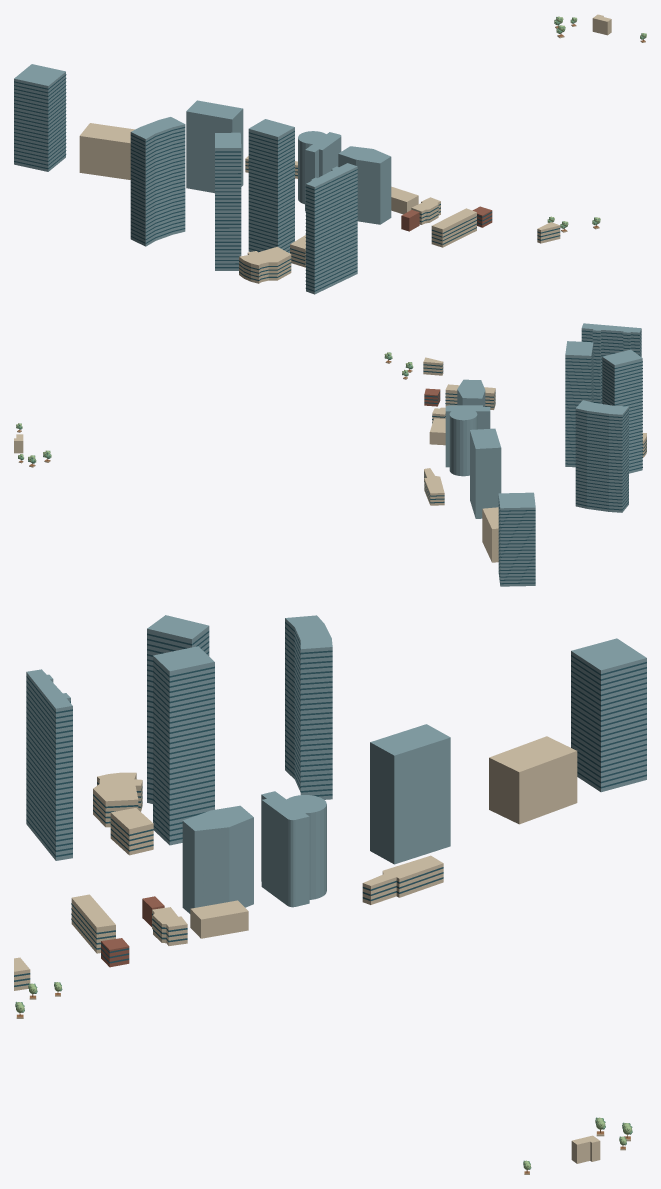
The picture shows the model from 3 angles, top to bottom: view 1: azimuth 30°, elevation 25°; view 2: azimuth 150°, elevation 25°; view 3: azimuth 270°, elevation 25°; orthographic projection. The views are drawn at different scales.
Visible parts, largest first — view 1: osm-way-293563945, osm-way-505655116, osm-way-505655117, osm-way-185831247, osm-way-505655118, osm-way-447126697, osm-way-505655121, osm-way-447126698, osm-way-858838998, osm-way-505655120, osm-way-505655123, osm-way-858839000 (+3 smaller); view 2: osm-way-293563945, osm-way-185831247, osm-way-505655118, osm-way-447126697, osm-way-505655117, osm-way-858838998, osm-way-505655116, osm-way-447126698, osm-way-505655121, osm-way-850733206, osm-way-505655123, osm-way-858839000; view 3: osm-way-505655117, osm-way-185831247, osm-way-447126697, osm-way-293563945, osm-way-505655116, osm-way-858838998, osm-way-505655121, osm-way-447126698, osm-way-505655118, osm-way-850733206, osm-way-505655120, osm-way-858839000 (+3 smaller).
Boxes of the visible parts, left/top/right/bottom form: osm-way-293563945: left=130, top=117, right=185, bottom=246; osm-way-505655116: left=305, top=163, right=357, bottom=294; osm-way-505655117: left=248, top=119, right=294, bottom=253; osm-way-185831247: left=14, top=64, right=66, bottom=171; osm-way-505655118: left=215, top=132, right=241, bottom=270; osm-way-447126697: left=186, top=100, right=243, bottom=193; osm-way-505655121: left=338, top=146, right=391, bottom=224; osm-way-447126698: left=79, top=123, right=134, bottom=179; osm-way-858838998: left=298, top=131, right=341, bottom=211; osm-way-505655120: left=239, top=246, right=291, bottom=283; osm-way-505655123: left=431, top=208, right=476, bottom=247; osm-way-858839000: left=391, top=186, right=418, bottom=214; osm-way-293563945: left=575, top=400, right=628, bottom=512; osm-way-185831247: left=498, top=492, right=535, bottom=586; osm-way-505655118: left=602, top=349, right=642, bottom=473; osm-way-447126697: left=470, top=428, right=501, bottom=518; osm-way-505655117: left=565, top=341, right=593, bottom=467; osm-way-858838998: left=445, top=405, right=490, bottom=476; osm-way-505655116: left=581, top=323, right=641, bottom=403; osm-way-447126698: left=482, top=507, right=498, bottom=562; osm-way-505655121: left=457, top=379, right=485, bottom=406; osm-way-850733206: left=424, top=468, right=444, bottom=505; osm-way-505655123: left=445, top=384, right=495, bottom=409; osm-way-858839000: left=429, top=418, right=445, bottom=445; osm-way-505655117: left=153, top=646, right=214, bottom=845; osm-way-185831247: left=571, top=638, right=646, bottom=792; osm-way-447126697: left=370, top=724, right=450, bottom=864; osm-way-293563945: left=285, top=615, right=332, bottom=799; osm-way-505655116: left=26, top=669, right=72, bottom=860; osm-way-858838998: left=261, top=791, right=326, bottom=907; osm-way-505655121: left=182, top=805, right=253, bottom=913; osm-way-447126698: left=489, top=736, right=577, bottom=824; osm-way-505655118: left=147, top=615, right=209, bottom=803; osm-way-850733206: left=362, top=855, right=443, bottom=904; osm-way-505655120: left=93, top=772, right=142, bottom=827; osm-way-858839000: left=190, top=900, right=248, bottom=938.
Bounding box in the file's own units: 696 × 136 × 448.
